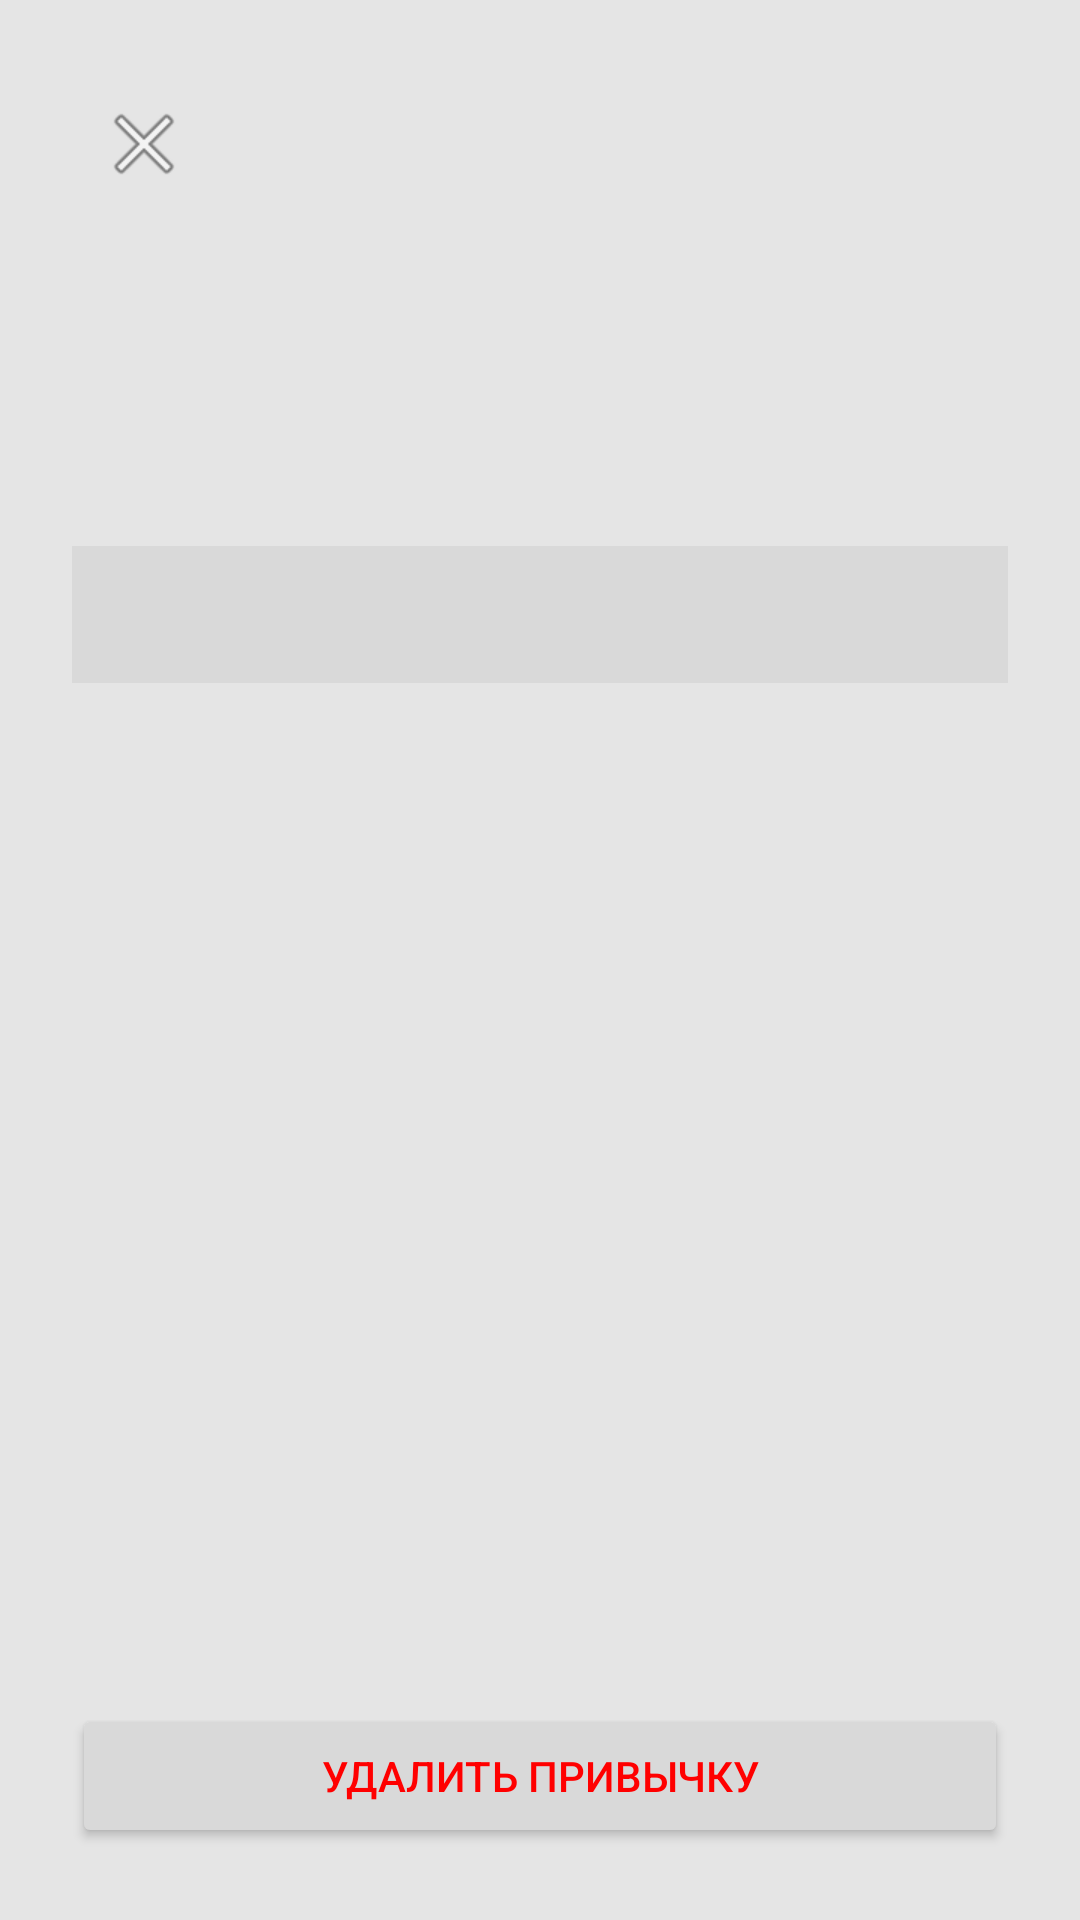

Named icons in this screenshot (1080x1920) and their centers, (x,y):
Закрыть: (144,144)
